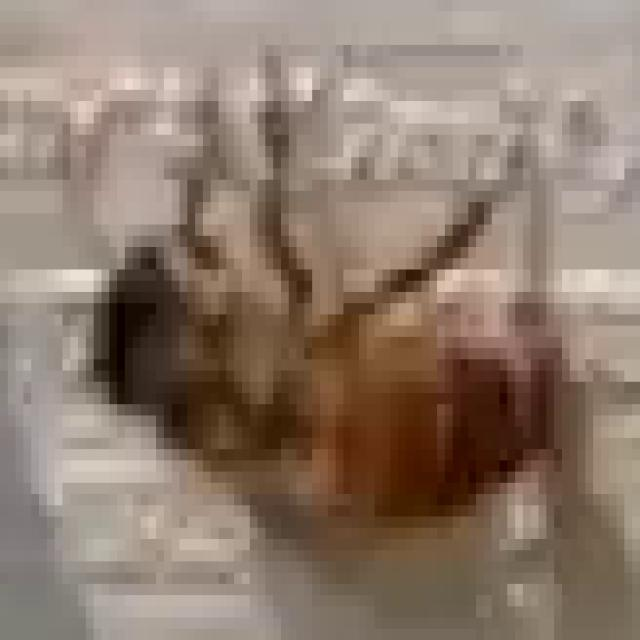honeybee: (88, 182, 612, 554)
